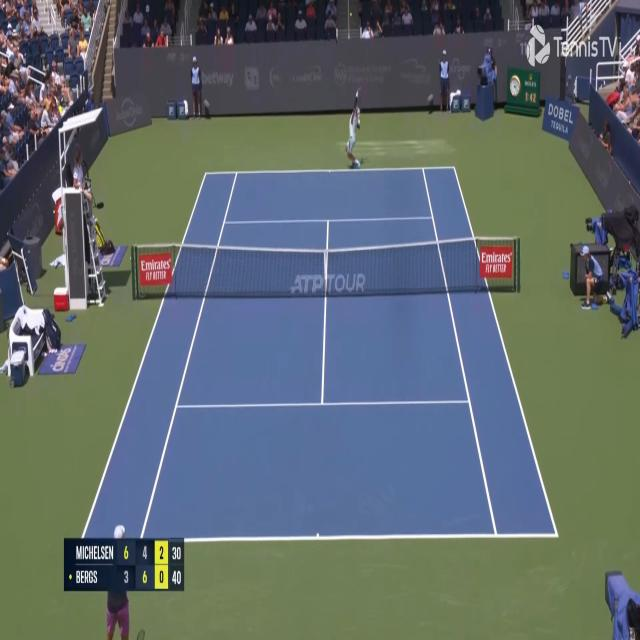tennis-player: (345, 87, 364, 171)
